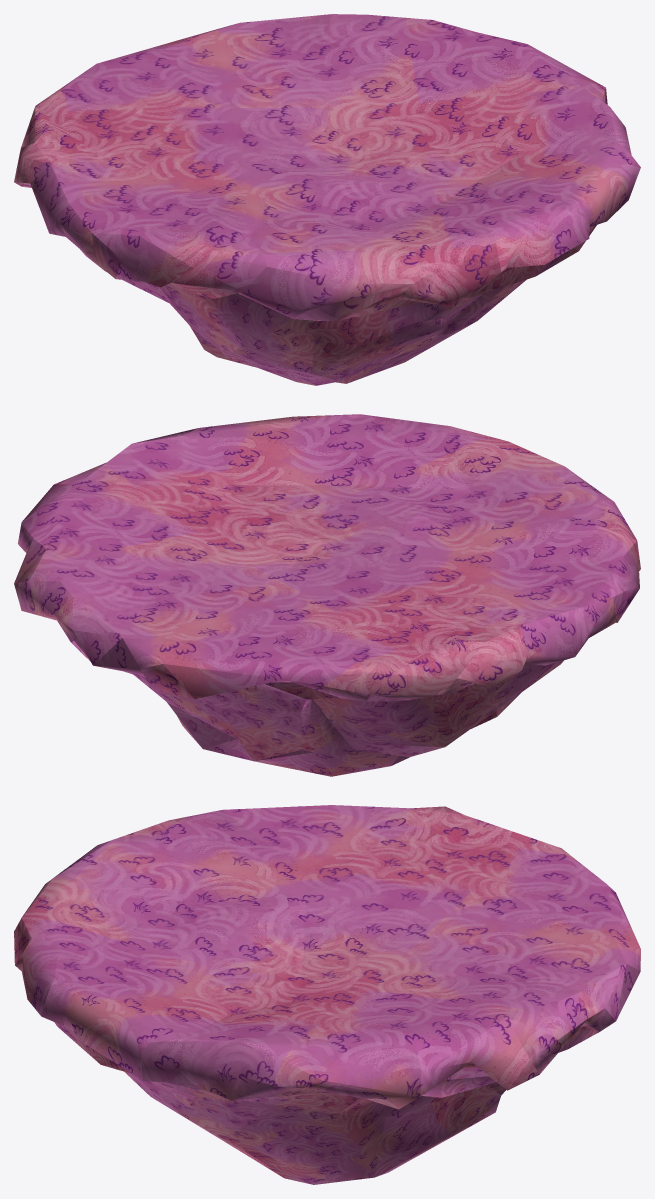
Rendered from floating-island-01.glb.
3 renders of one model, top to bottom at view 1: azimuth 30°, elevation 25°; view 2: azimuth 150°, elevation 25°; view 3: azimuth 270°, elevation 25°, orthographic.
Visible parts, largest first — view 1: Floating_Island_01_Art; view 2: Floating_Island_01_Art; view 3: Floating_Island_01_Art.
Part boxes in pixels (left/top/right/bottom): Floating_Island_01_Art: left=14, top=14, right=640, bottom=385; Floating_Island_01_Art: left=14, top=414, right=640, bottom=776; Floating_Island_01_Art: left=14, top=805, right=640, bottom=1184.
Size of the model in its own units: 14.79 by 5.6 by 14.49.
Materials: 1 (1 with a texture image).
